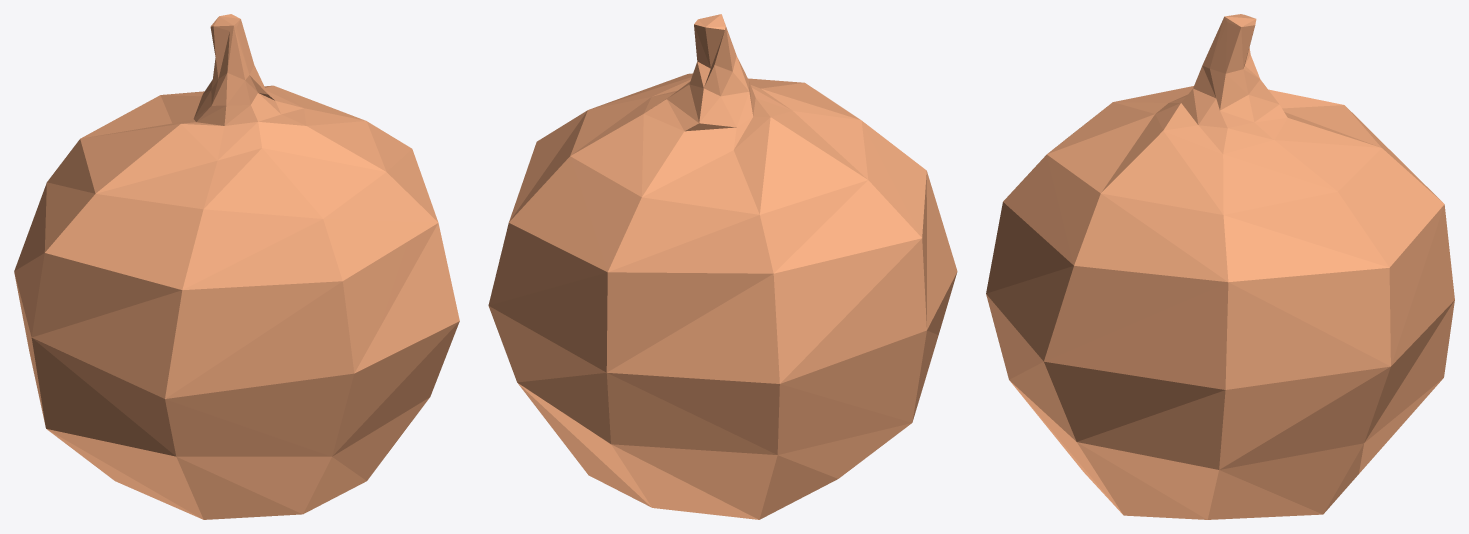
File: Onion_noface.fbx
The picture shows the model from 3 angles, left to right: view 1: azimuth 30°, elevation 25°; view 2: azimuth 150°, elevation 25°; view 3: azimuth 270°, elevation 25°; orthographic projection. The views are drawn at different scales.
Visible parts, largest first — view 1: Onion_noface; view 2: Onion_noface; view 3: Onion_noface.
Boxes of the visible parts, bbox=[...] form: Onion_noface: bbox=[14, 14, 459, 519]; Onion_noface: bbox=[488, 14, 957, 519]; Onion_noface: bbox=[986, 14, 1454, 519].
Size of the model in its own units: 62.85 by 61.58 by 70.32.
Materials: 1 (1 with a texture image).
